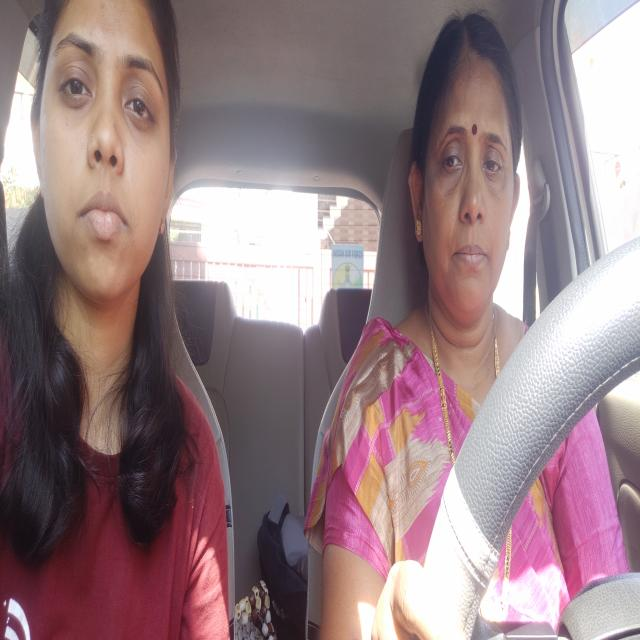person: (28, 0, 199, 310), (404, 10, 532, 343)
